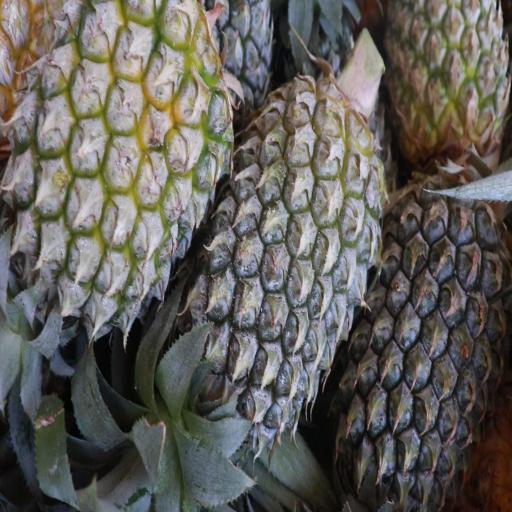------------------------------: (12, 0, 224, 311), (388, 0, 512, 159)
